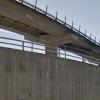Bridge: (4, 1, 95, 60)
